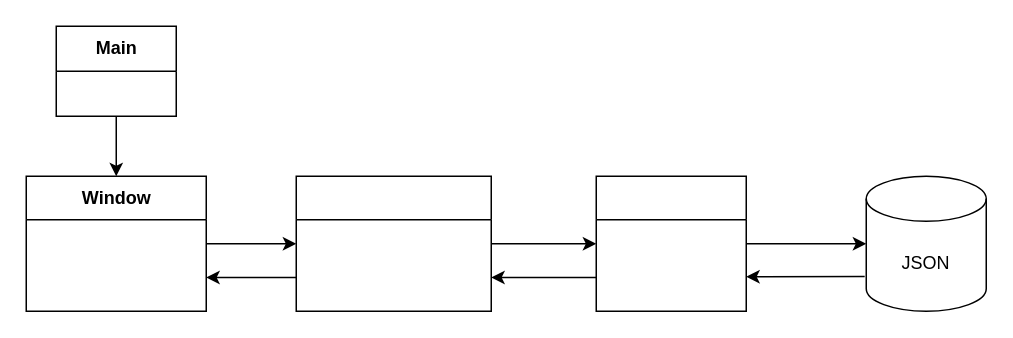
This 1013x338 diagram has some shape labels left out. The centre of each missing label's shape, as x and y in pixels:
DAO: [670,243]
MainFrameController: [393,243]
